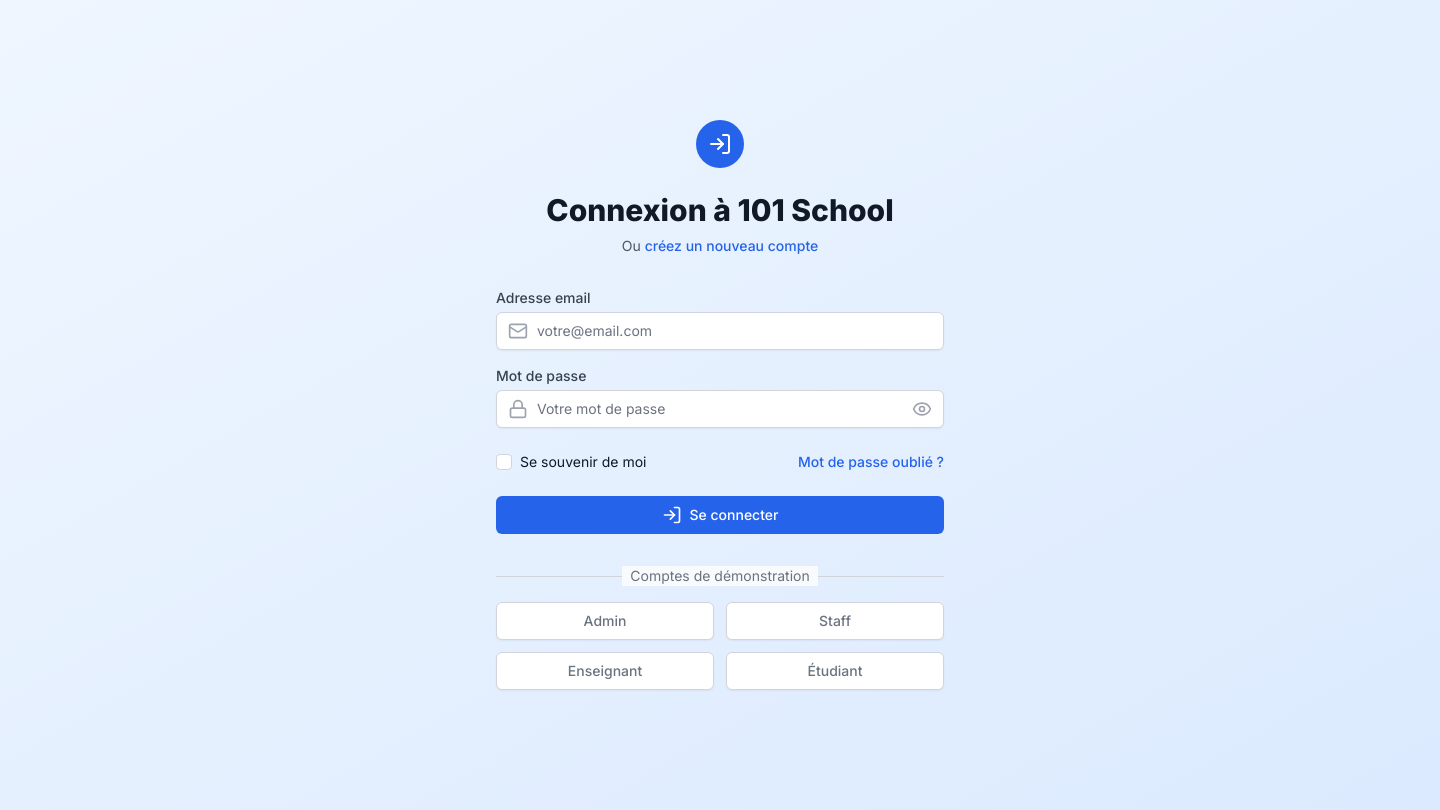
it: LoginForm › Form Validation › shows error for password too short
The image size is (1440, 810).
Type "test@example.com" into the field with placeholder "votre@email.com".
click(720, 331); type("test@example.com")  # box left=496, top=312, right=944, bottom=350
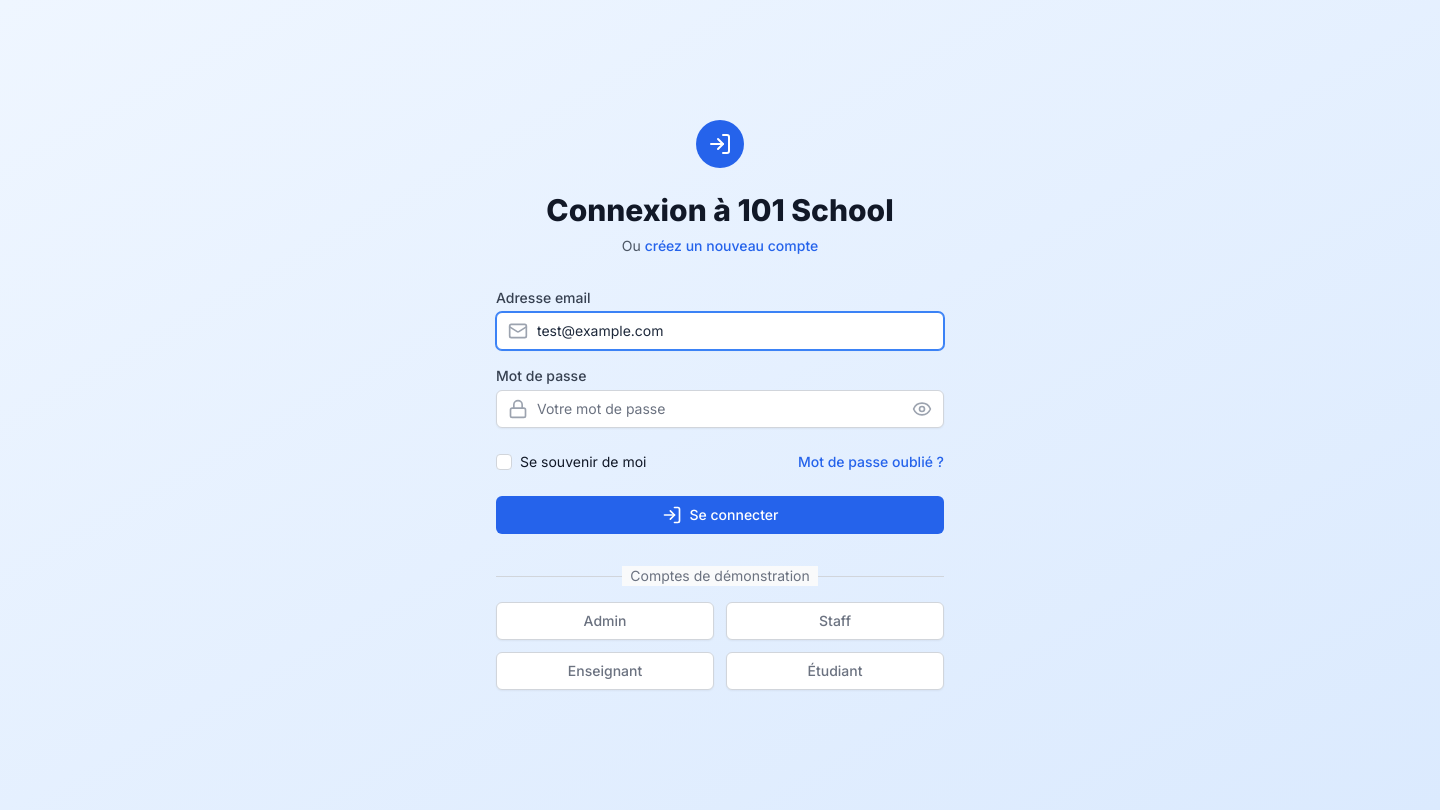
Type "123" into the password field with placeholder "Votre mot de passe".
click(720, 409); type("123")  # box left=496, top=390, right=944, bottom=428
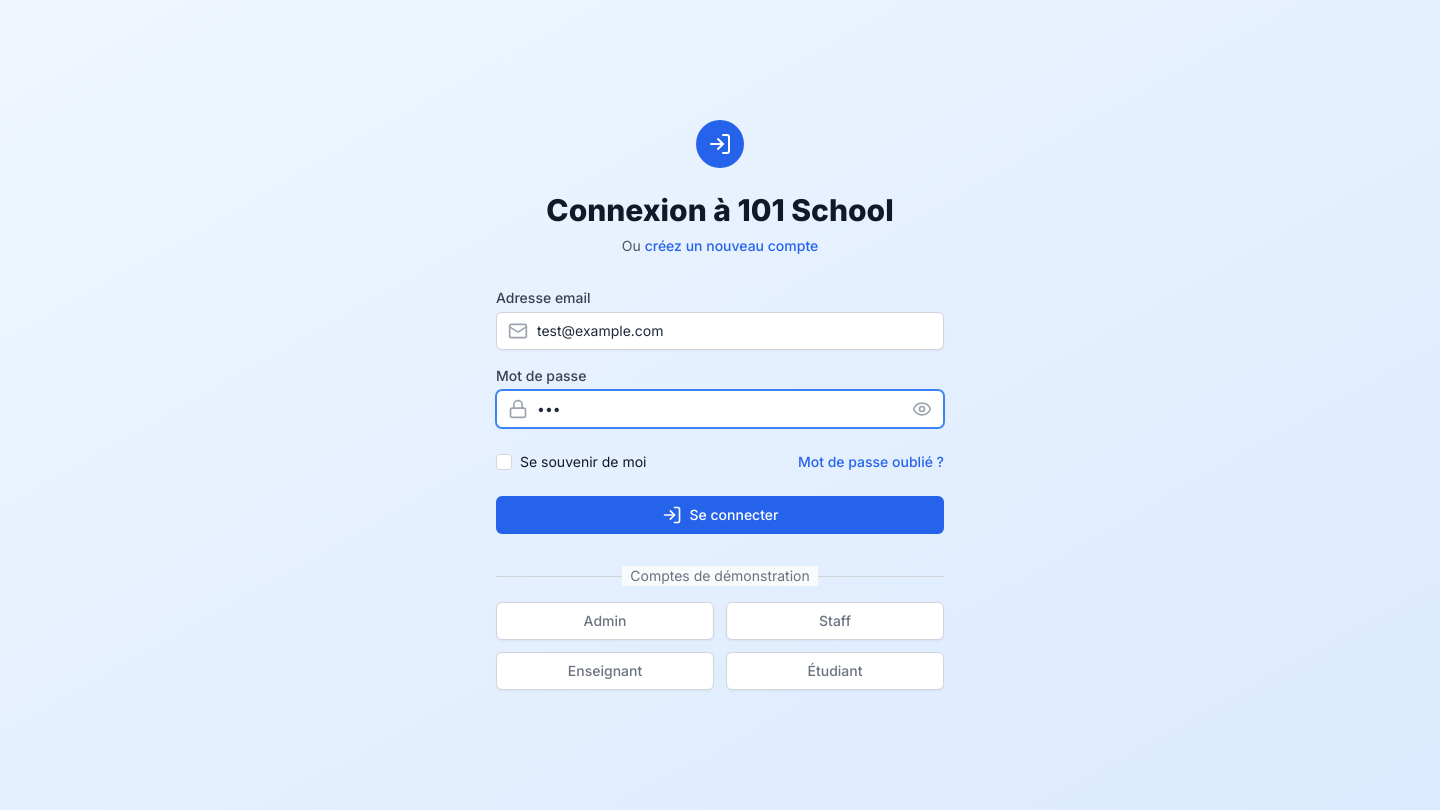
Click the button "Se connecter".
click(720, 515)  # box left=496, top=496, right=944, bottom=534
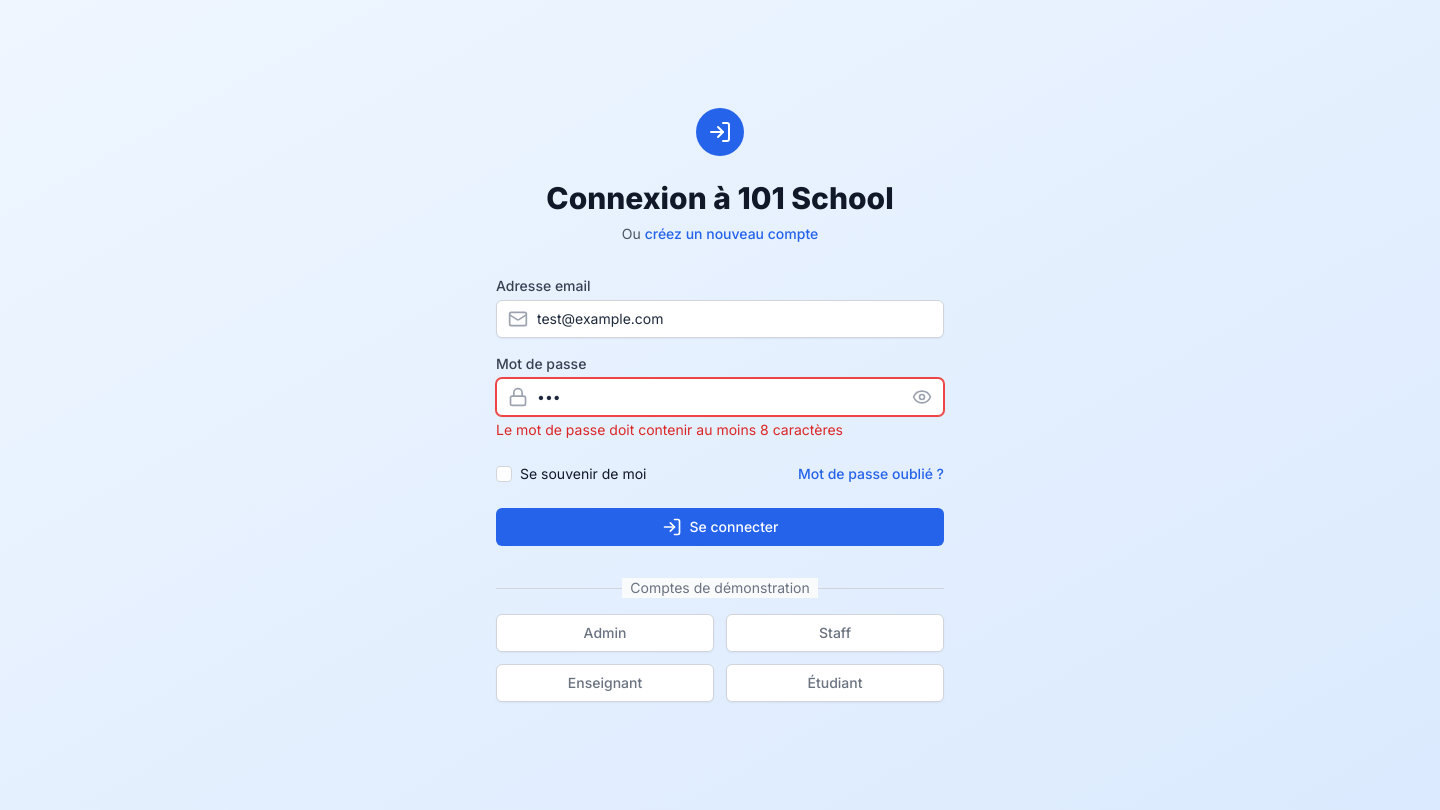
Expected: the text "Le mot de passe doit contenir au moins 8 caractères" is shown, left=496, top=421, right=843, bottom=438
